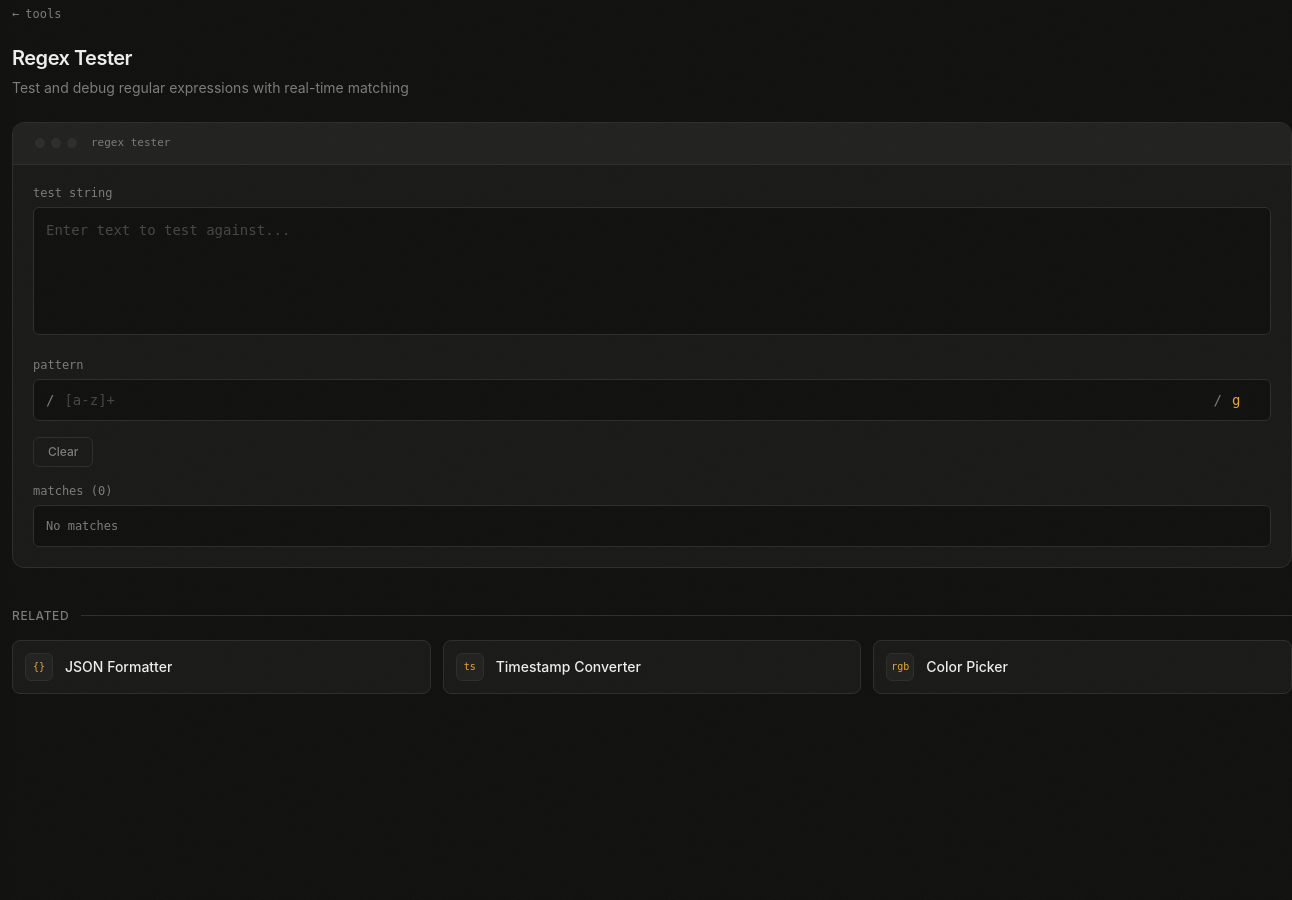
Test: Regex Tester › clears all fields
This screenshot has width=1292, height=900.
In the field with placeholder "[a-z]+": [634, 400] box [54,380,1214,420], type "test"
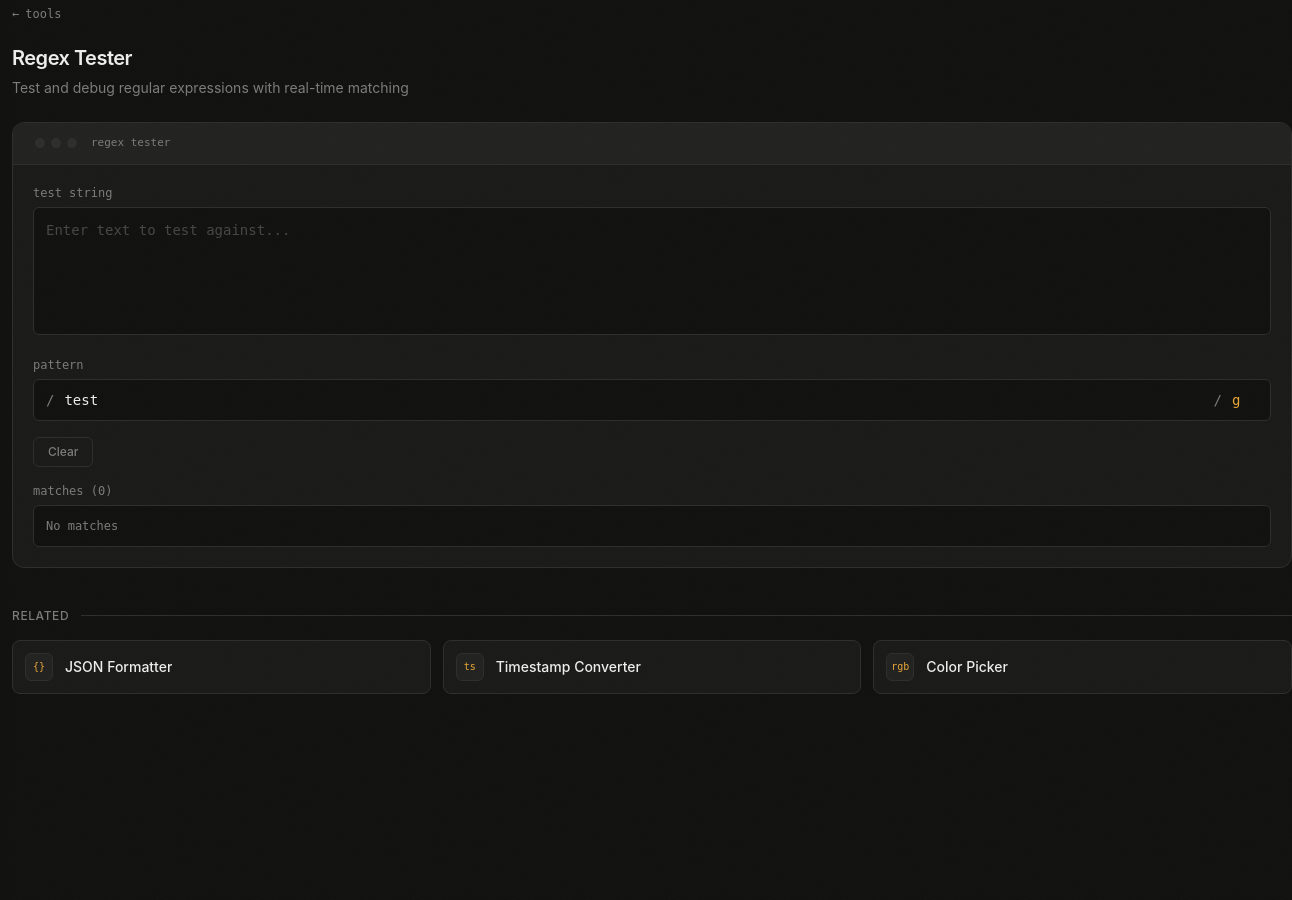
In the text box with placeholder "Enter text to test against...": [652, 270] box [33,206,1271,334], type "test string"
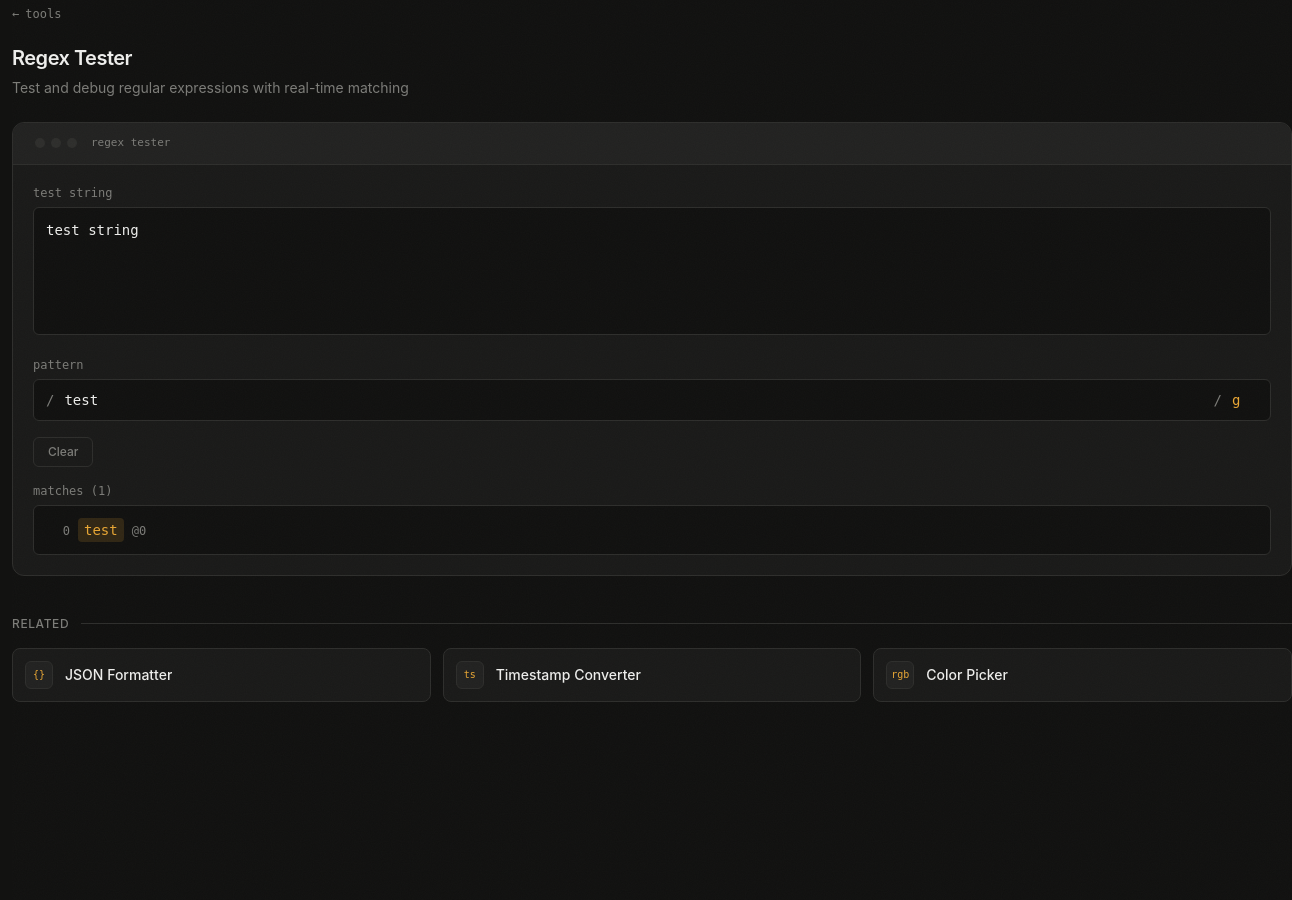
Click the button "Clear": [63, 452] box [33,436,94,466]
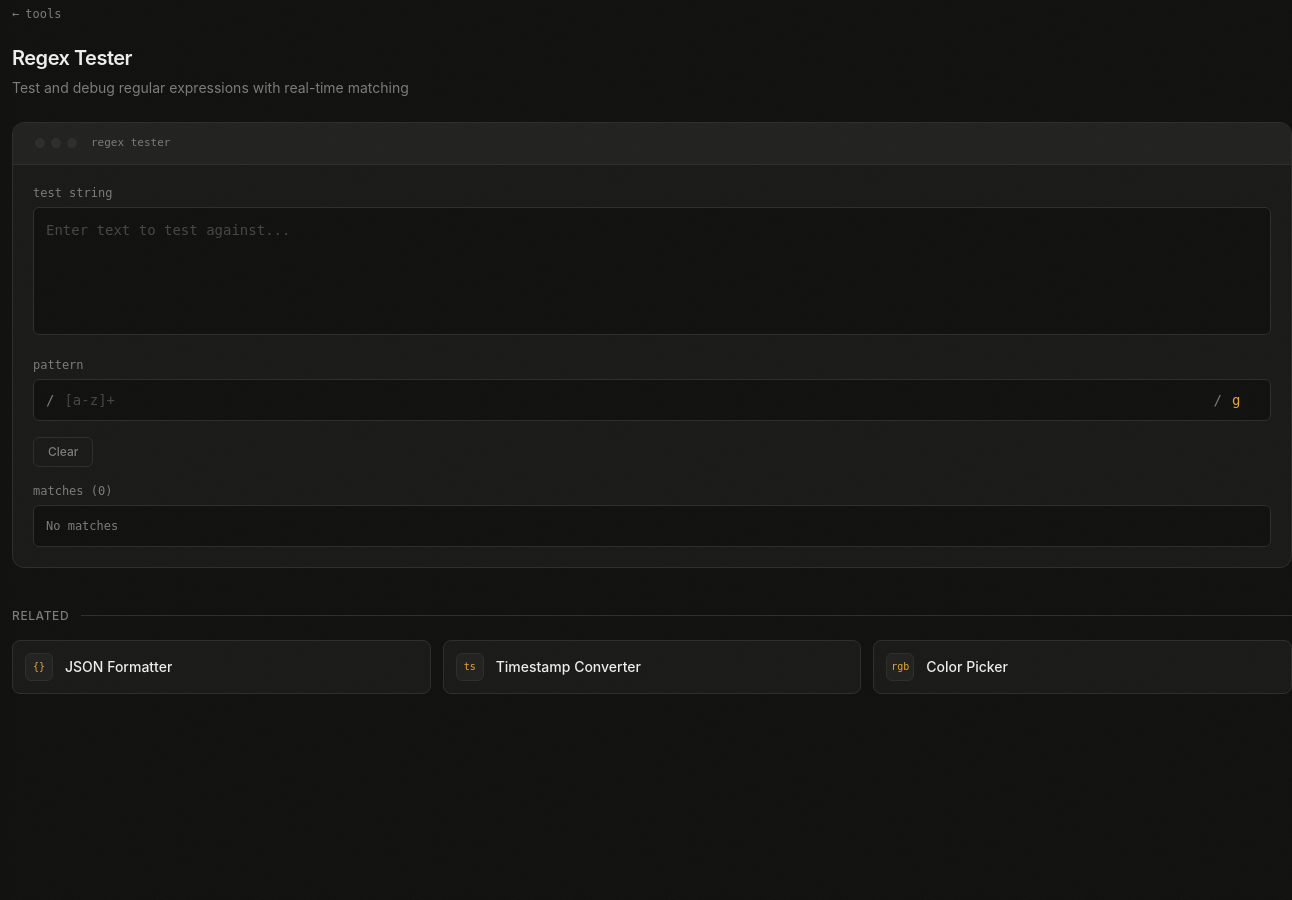
Expected: the field with placeholder "[a-z]+" is empty, [54,380,1214,420]
Expected: the text box with placeholder "Enter text to test against..." is empty, [33,206,1271,334]
